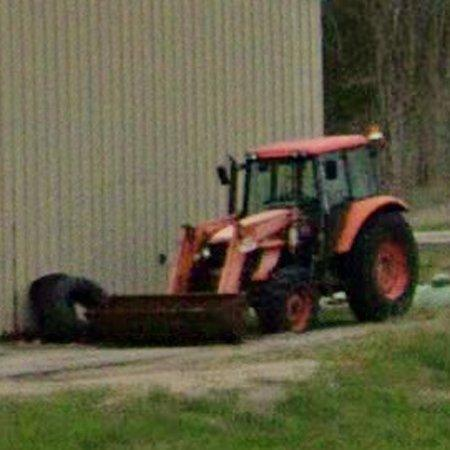tractors: (86, 135, 419, 342)
